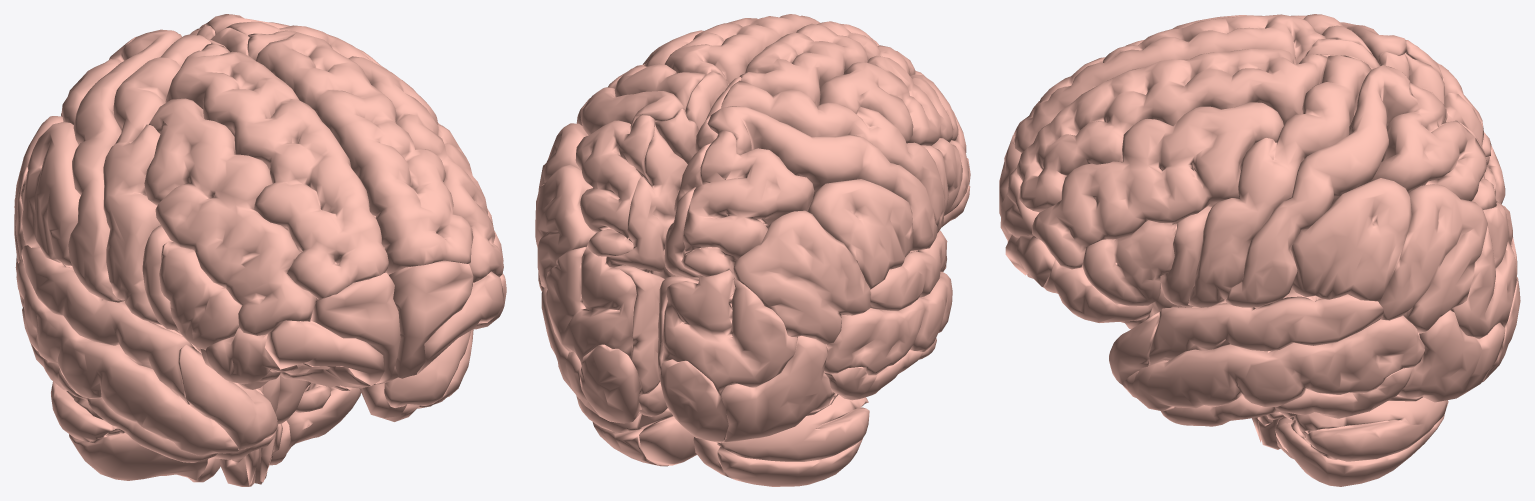
File: allen_m_brain-20.glb
The picture shows the model from 3 angles, left to right: view 1: azimuth 30°, elevation 25°; view 2: azimuth 150°, elevation 25°; view 3: azimuth 270°, elevation 25°; orthographic projection. The views are drawn at different scales.
Parts seen in each view (by area): view 1: Allen_superior_frontal_gyrus_L, Allen_middle_frontal_gyrus_L, Allen_superior_frontal_gyrus_R, Allen_middle_temporal_gyrus_L, Allen_precentral_gyrus_L, Allen_postcentral_gyrus_L, Allen_superior_temporal_gyrus_L, Allen_middle_frontal_gyrus_R, Allen_supramarginal_gyrus_L, Allen_rostral_gyrus_R, Allen_lateral_hemisphere_of_cerebellum_L, Allen_inferior_frontal_gyrus_triangular_part_L (+19 smaller); view 2: Allen_supraparietal_lobule_L, Allen_angular_gyrus_L, Allen_superior_occipital_gyrus_L, Allen_postcentral_gyrus_L, Allen_lateral_hemisphere_of_cerebellum_L, Allen_superior_occipital_gyrus_R, Allen_supraparietal_lobule_R, Allen_precentral_gyrus_L, Allen_supramarginal_gyrus_L, Allen_middle_frontal_gyrus_L, Allen_superior_frontal_gyrus_L, Allen_middle_temporal_gyrus_L (+24 smaller); view 3: Allen_middle_frontal_gyrus_R, Allen_superior_frontal_gyrus_R, Allen_middle_temporal_gyrus_R, Allen_precentral_gyrus_R, Allen_postcentral_gyrus_R, Allen_supramarginal_gyrus_R, Allen_angular_gyrus_R, Allen_superior_temporal_gyrus_R, Allen_lateral_hemisphere_of_cerebellum_R, Allen_superior_frontal_gyrus_L, Allen_supraparietal_lobule_R, Allen_inferior_frontal_gyrus_triangular_part_R (+16 smaller).
Part boxes in pixels (<box>): Allen_superior_frontal_gyrus_L: <box>165,43,388,300</box>; Allen_middle_frontal_gyrus_L: <box>144,98,316,335</box>; Allen_superior_frontal_gyrus_R: <box>247,30,473,273</box>; Allen_middle_temporal_gyrus_L: <box>16,260,238,455</box>; Allen_precentral_gyrus_L: <box>103,34,210,324</box>; Allen_postcentral_gyrus_L: <box>68,29,181,302</box>; Allen_superior_temporal_gyrus_L: <box>21,245,194,404</box>; Allen_middle_frontal_gyrus_R: <box>348,56,503,282</box>; Allen_supramarginal_gyrus_L: <box>21,122,80,265</box>; Allen_rostral_gyrus_R: <box>389,260,473,378</box>; Allen_lateral_hemisphere_of_cerebellum_L: <box>51,381,207,480</box>; Allen_inferior_frontal_gyrus_triangular_part_L: <box>159,241,241,350</box>; Allen_supraparietal_lobule_L: <box>681,130,814,276</box>; Allen_angular_gyrus_L: <box>733,210,870,344</box>; Allen_superior_occipital_gyrus_L: <box>662,270,797,394</box>; Allen_postcentral_gyrus_L: <box>707,106,938,251</box>; Allen_lateral_hemisphere_of_cerebellum_L: <box>717,394,869,486</box>; Allen_superior_occipital_gyrus_R: <box>546,245,636,365</box>; Allen_supraparietal_lobule_R: <box>575,114,654,256</box>; Allen_precentral_gyrus_L: <box>721,80,944,232</box>; Allen_supramarginal_gyrus_L: <box>807,179,913,289</box>; Allen_middle_frontal_gyrus_L: <box>819,55,966,152</box>; Allen_superior_frontal_gyrus_L: <box>739,21,925,106</box>; Allen_middle_temporal_gyrus_L: <box>824,271,952,375</box>; Allen_middle_frontal_gyrus_R: <box>1032,102,1283,269</box>; Allen_superior_frontal_gyrus_R: <box>1016,49,1327,212</box>; Allen_middle_temporal_gyrus_R: <box>1122,315,1424,411</box>; Allen_precentral_gyrus_R: <box>1188,55,1371,307</box>; Allen_postcentral_gyrus_R: <box>1224,65,1419,307</box>; Allen_supramarginal_gyrus_R: <box>1290,178,1411,301</box>; Allen_angular_gyrus_R: <box>1378,184,1487,333</box>; Allen_superior_temporal_gyrus_R: <box>1148,294,1383,365</box>; Allen_lateral_hemisphere_of_cerebellum_R: <box>1266,397,1448,486</box>; Allen_superior_frontal_gyrus_L: <box>1013,14,1325,152</box>; Allen_supraparietal_lobule_R: <box>1370,82,1496,209</box>; Allen_inferior_frontal_gyrus_triangular_part_R: <box>1082,220,1176,306</box>.
Size of the model in its own units: 0.1361 by 0.1457 by 0.1668.
